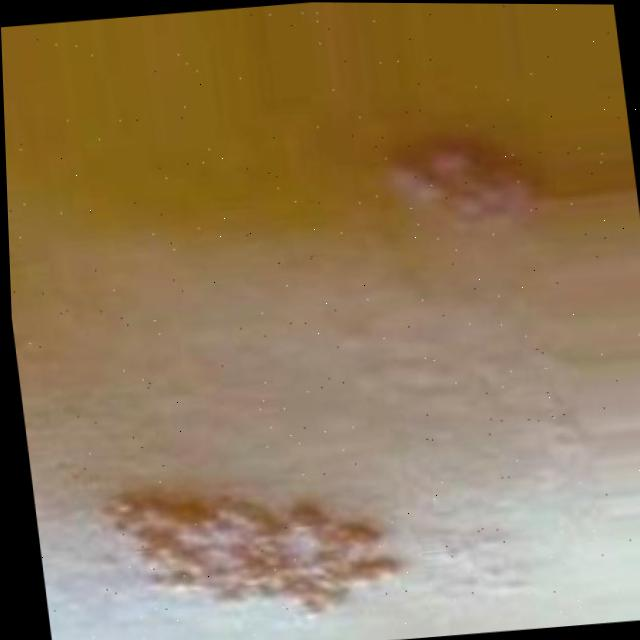Shingles: (94, 472, 406, 640), (381, 133, 546, 233)
